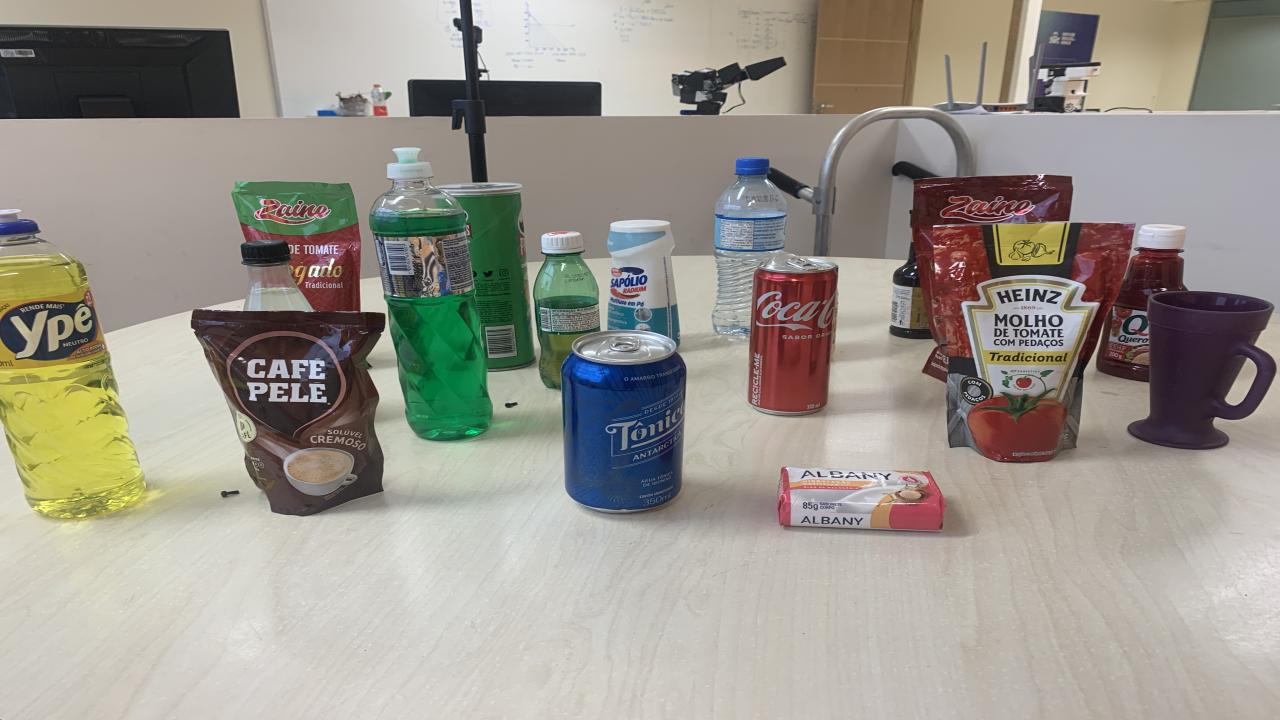Cleaner-Cleanup_Items: (608, 219, 680, 343)
Coffee-Pantry_Items: (192, 309, 385, 516)
Coke-Drinks: (748, 253, 838, 414)
Detergent-Cleanup_Items: (0, 212, 145, 518), (370, 148, 492, 441)
English_Sauce-Pantry_Items: (890, 244, 932, 339)
Guarana-Drinks: (532, 231, 600, 388)
Ketchup-Pantry_Items: (1098, 225, 1188, 382)
Pringles-Snacks: (440, 182, 535, 371)
Soap-Cleanup_Items: (778, 467, 945, 531)
Soda-Drinks: (240, 240, 312, 311)
Tomato_Sauce-Pantry_Items: (930, 221, 1135, 463), (232, 182, 360, 311), (910, 174, 1072, 229)
Tonic-Drinks: (562, 330, 685, 512)
Water_Bottle-Drinks: (712, 158, 788, 336)
